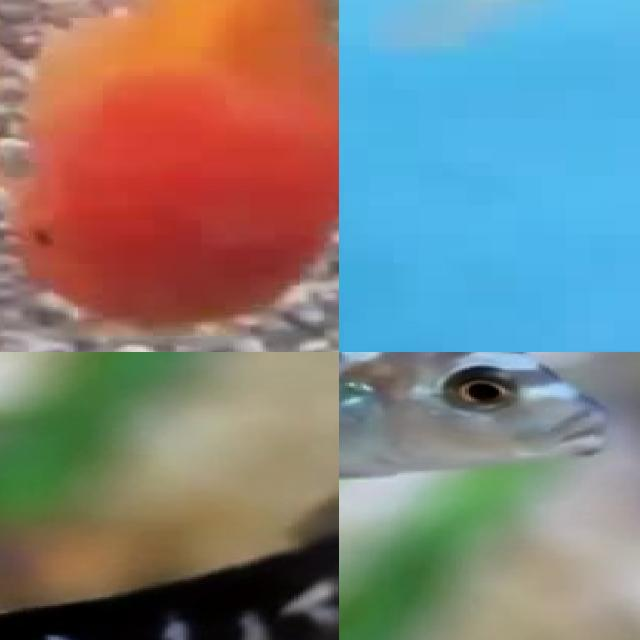fish: (0, 0, 339, 352), (0, 463, 339, 640), (339, 0, 640, 84)
